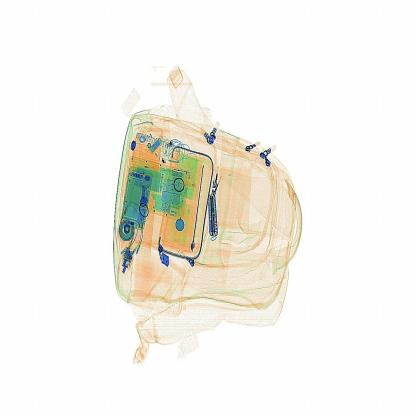scissors: (202, 190, 230, 247)
